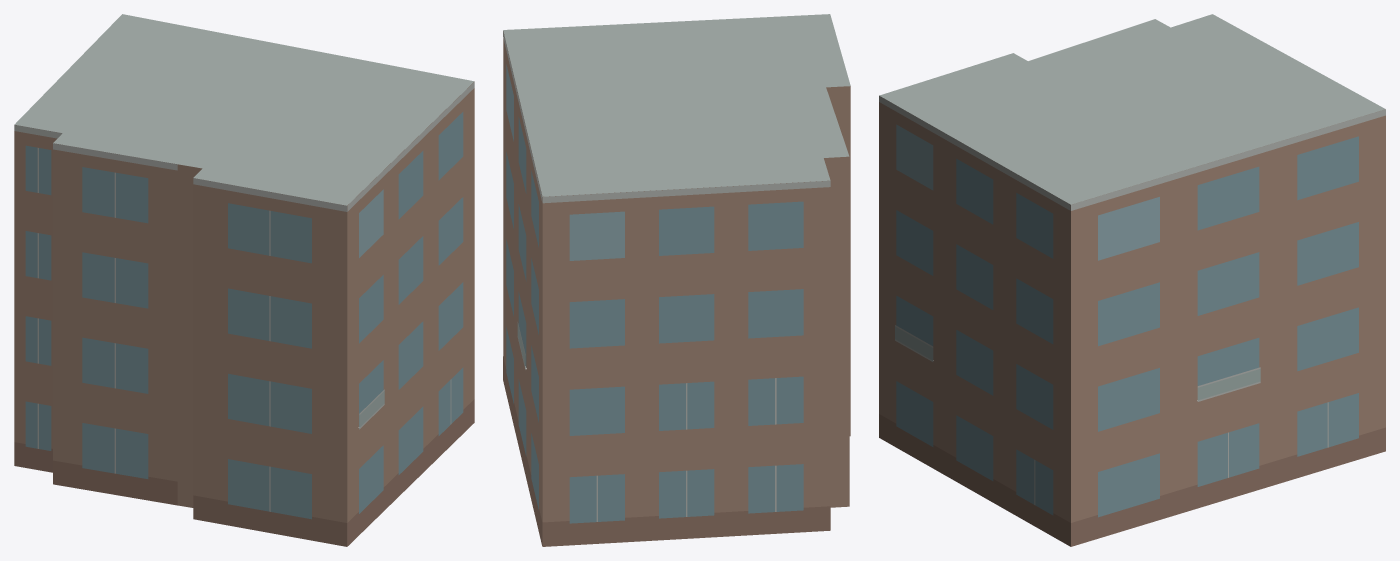
The model's file is survey-upis-33037251.glb.
3 renders of one model, left to right at view 1: azimuth 30°, elevation 25°; view 2: azimuth 150°, elevation 25°; view 3: azimuth 270°, elevation 25°, orthographic. The views are drawn at different scales.
Parts seen in each view (by area): view 1: survey-upis-33037251.tmp; view 2: survey-upis-33037251.tmp; view 3: survey-upis-33037251.tmp.
Boxes of the visible parts, x1,y1,x2,y2 form: survey-upis-33037251.tmp: (14,14,474,546); survey-upis-33037251.tmp: (503,14,850,546); survey-upis-33037251.tmp: (879,14,1385,546).
Bounding box in the file's own units: 15.79 × 13.2 × 17.73.
